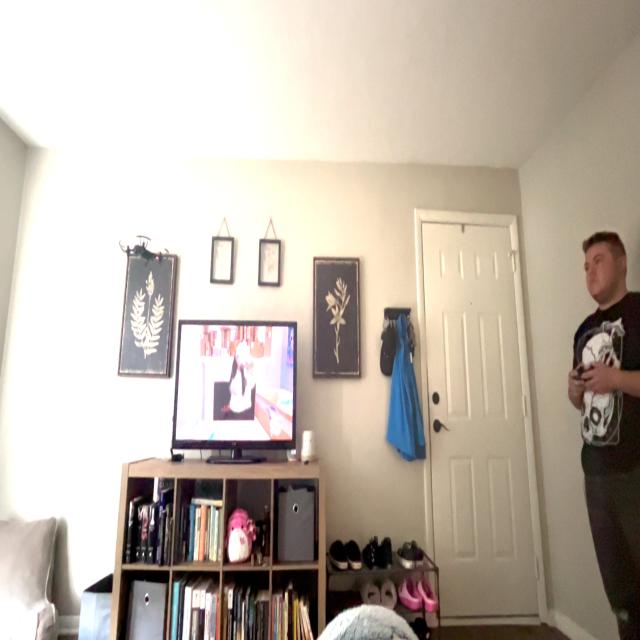drone: (112, 216, 174, 280)
